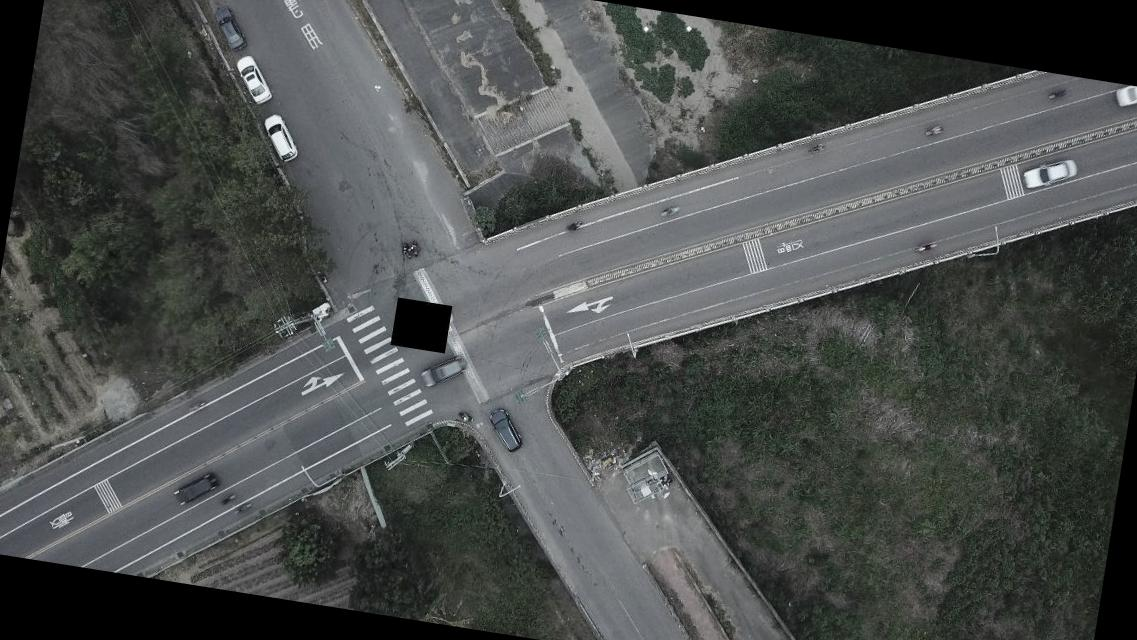vehicle: (1018, 152, 1079, 198), (231, 52, 278, 106), (258, 111, 303, 166), (484, 405, 528, 455), (208, 6, 251, 52), (419, 351, 467, 392), (170, 468, 218, 508), (1110, 82, 1136, 114)
